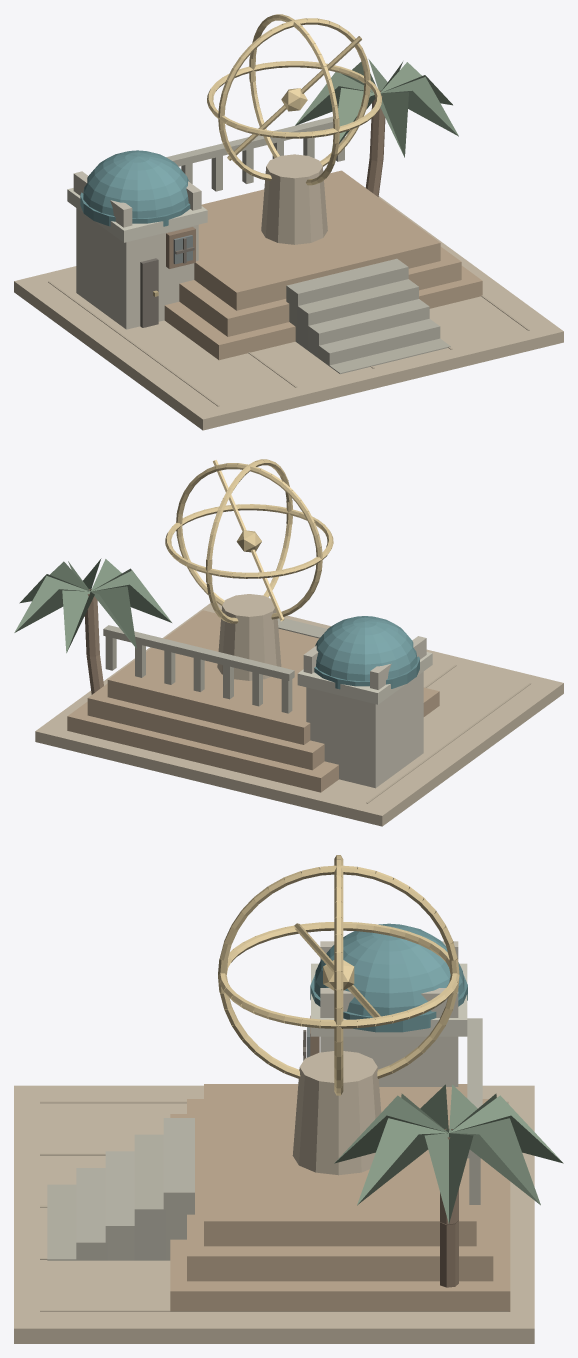
3 views of the same model, one above another, from view 1: azimuth 30°, elevation 25°; view 2: azimuth 150°, elevation 25°; view 3: azimuth 270°, elevation 25° (orthographic). The views are drawn at different scales.
Visible parts, largest first — view 1: S38; view 2: S38; view 3: S38.
Part boxes in pixels (x1,y1,x2,y2): S38: (14,14,563,430); S38: (14,459,563,826); S38: (14,855,563,1343).
Size of the model in its own units: 4.24 by 2.71 by 3.59.
